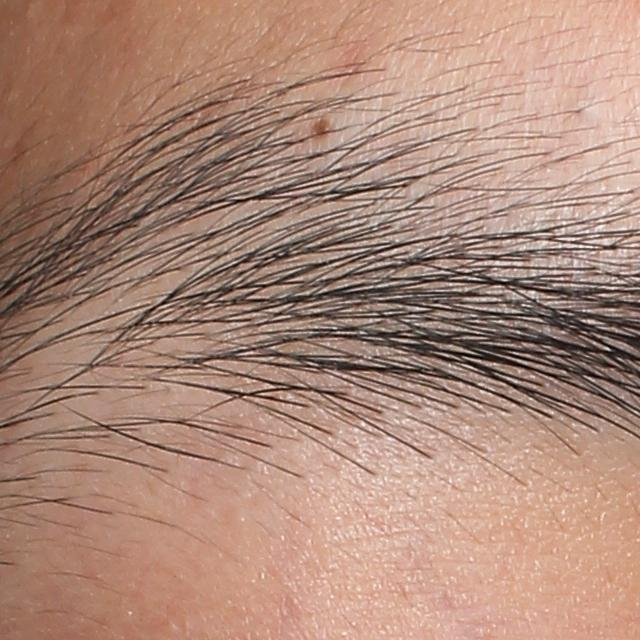nevus: (307, 116, 336, 147)
